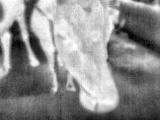eye: (54, 26, 70, 46)
